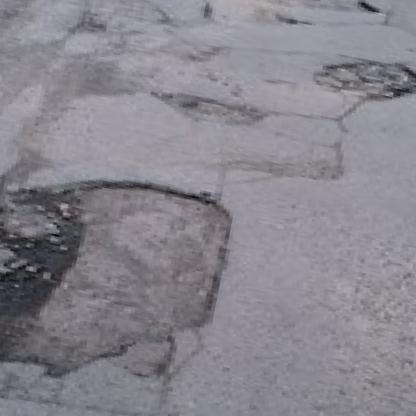pothole: (0, 141, 240, 411), (115, 0, 388, 57), (311, 44, 416, 111), (144, 85, 269, 131)
